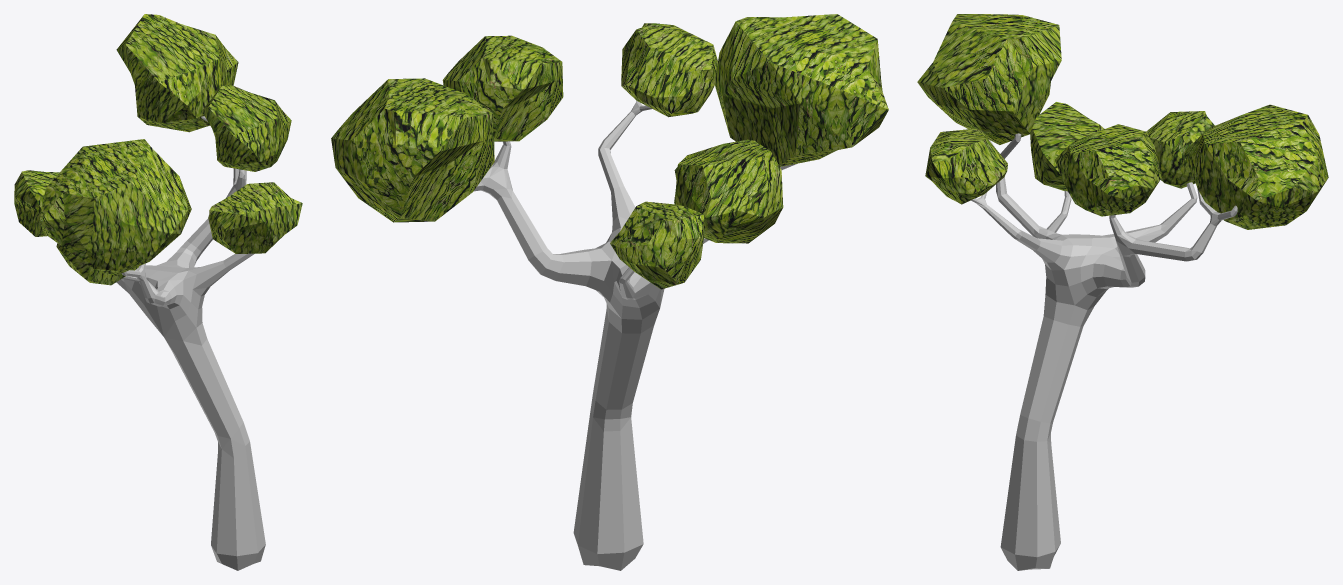
The model's file is Tree1.1.obj.
The picture shows the model from 3 angles, left to right: view 1: azimuth 30°, elevation 25°; view 2: azimuth 150°, elevation 25°; view 3: azimuth 270°, elevation 25°; orthographic projection. The views are drawn at different scales.
Visible parts, largest first — view 1: leafs_Icosphere.005, trunk_Icosphere.001; view 2: leafs_Icosphere.005, trunk_Icosphere.001; view 3: leafs_Icosphere.005, trunk_Icosphere.001.
Boxes of the visible parts, x1,y1,x2,y2 form: leafs_Icosphere.005: (14,14,302,285); trunk_Icosphere.001: (116,116,265,570); leafs_Icosphere.005: (331,14,888,289); trunk_Icosphere.001: (474,100,796,570); leafs_Icosphere.005: (917,14,1328,229); trunk_Icosphere.001: (971,133,1237,570).
Bounding box in the file's own units: 3.43 × 4.69 × 3.64.
